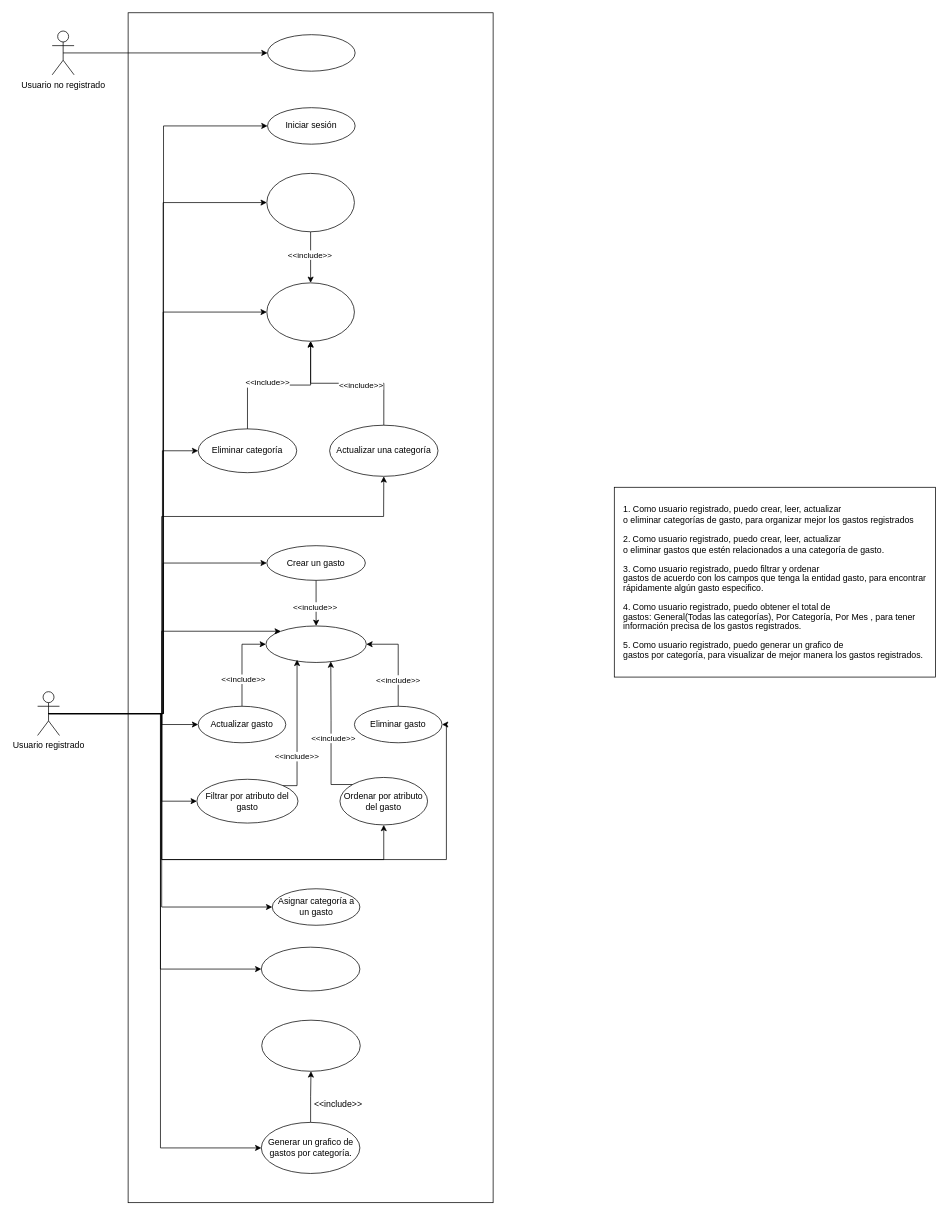
Some shapes in this 948 by 1215 pixel diagram are drawn without their labels. The shapes that lost their labels are listed below. From the top down, each one's centre as x and y in pixels, then its label:
pixel 311 52: Registrarse
pixel 310 202: Crear categoría de gasto
pixel 310 311: Recuperar todas las categorías
pixel 315 643: Recuperar todos los gastos
pixel 310 968: Generar un total de gastos en base a un criterio
pixel 310 1045: Generar un total de gastos por categoria.
